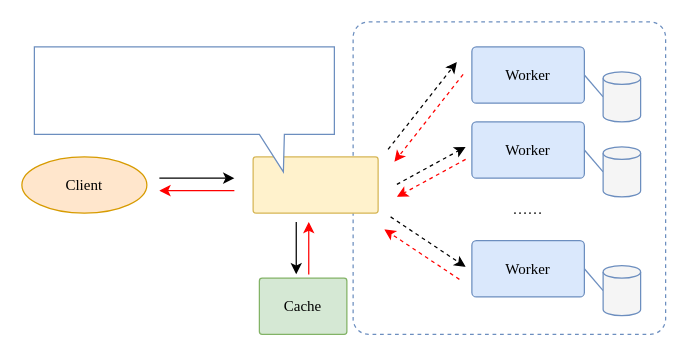
This 688x356 diagram has some shape labels left out. The shapes that lost their labels are listed below. From the top down, each one's centre as x and y in pixels, then its label:
At [183,109]: "1、查找缓存 2、如果缓存存在，直接返回客户端 3、否则，将请求转发Worker，并缓存结果".
At [315,184]: "Dispatcher".
